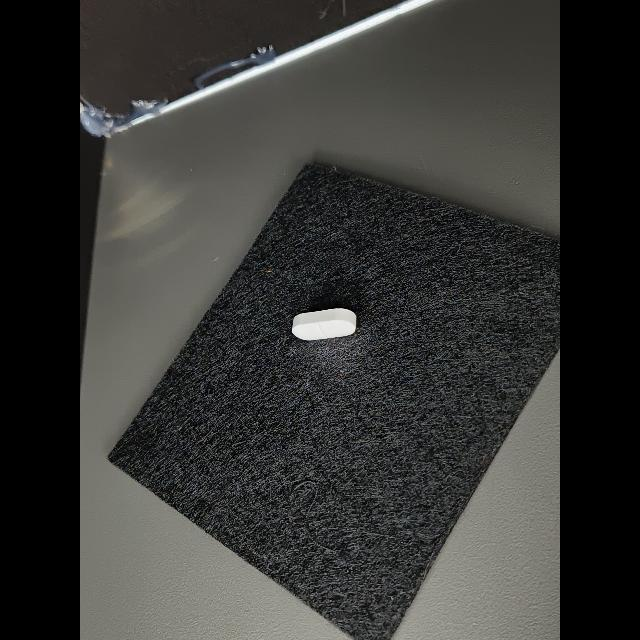Intact Pill: (292, 308, 356, 340)
